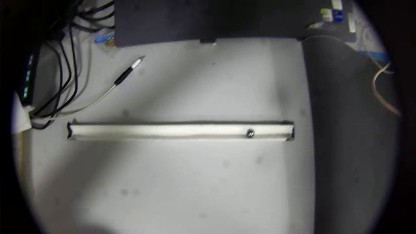gangzhu: (245, 128, 256, 139)
